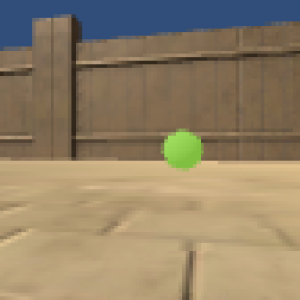goodGoal: (160, 129, 205, 171)
